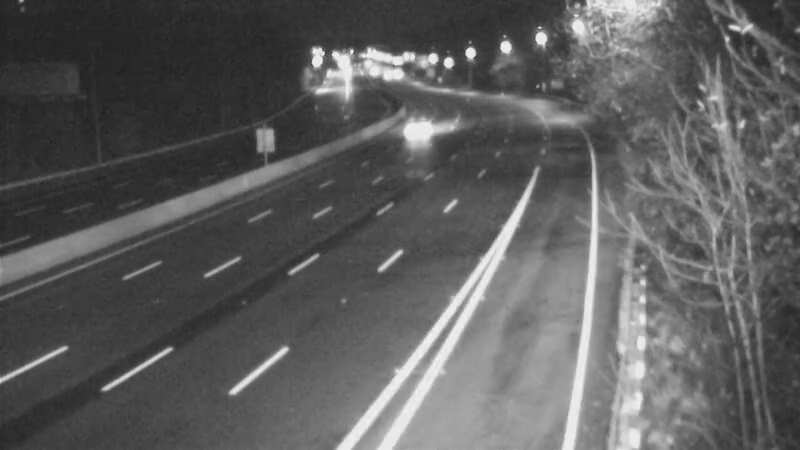vehicle: (398, 102, 448, 152)
